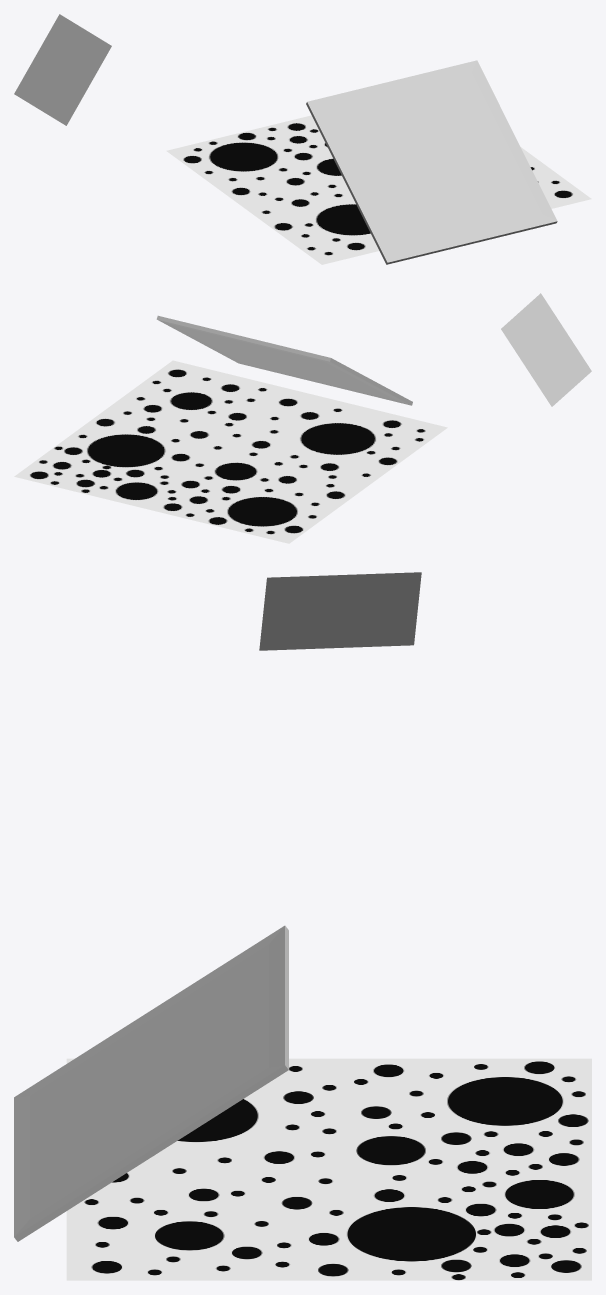
File: WalterGlass.obj
3 renders of one model, top to bottom at view 1: azimuth 30°, elevation 25°; view 2: azimuth 150°, elevation 25°; view 3: azimuth 270°, elevation 25°, orthographic. The views are drawn at different scales.
Parts seen in each view (by area): view 1: RoughnessGlass, Plane, Glass, Light; view 2: Plane, Light, RoughnessGlass, Glass; view 3: Plane, RoughnessGlass, Glass, Light.
Boxes of the visible parts, x1=… form: RoughnessGlass: x1=322, y1=72, x2=542, y2=250; Plane: x1=166, y1=115, x2=591, y2=264; Glass: x1=306, y1=60, x2=557, y2=264; Light: x1=14, y1=14, x2=111, y2=125; Plane: x1=14, y1=360, x2=447, y2=543; Light: x1=501, y1=293, x2=591, y2=406; RoughnessGlass: x1=172, y1=324, x2=395, y2=399; Glass: x1=156, y1=315, x2=412, y2=405; Plane: x1=66, y1=1058, x2=591, y2=1280; RoughnessGlass: x1=30, y1=944, x2=269, y2=1218; Glass: x1=14, y1=925, x2=288, y2=1241; Light: x1=259, y1=572, x2=421, y2=650.
Size of the model in its own units: 3.52 by 1.51 by 2.2.
4 materials, 1 textured.
